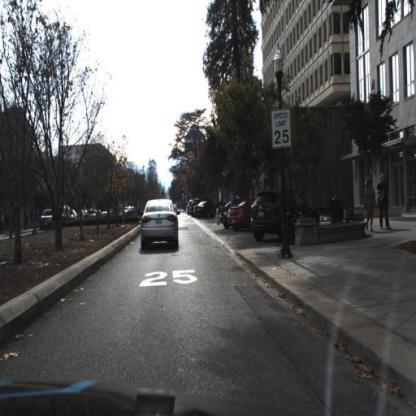car: (252, 187, 316, 240), (139, 193, 181, 254), (227, 200, 250, 230), (39, 208, 55, 234), (40, 209, 58, 230), (194, 200, 216, 217), (219, 203, 230, 227)
pedestrian: (377, 172, 393, 234), (229, 199, 252, 232), (365, 174, 376, 233), (34, 209, 42, 230), (30, 208, 35, 227)
